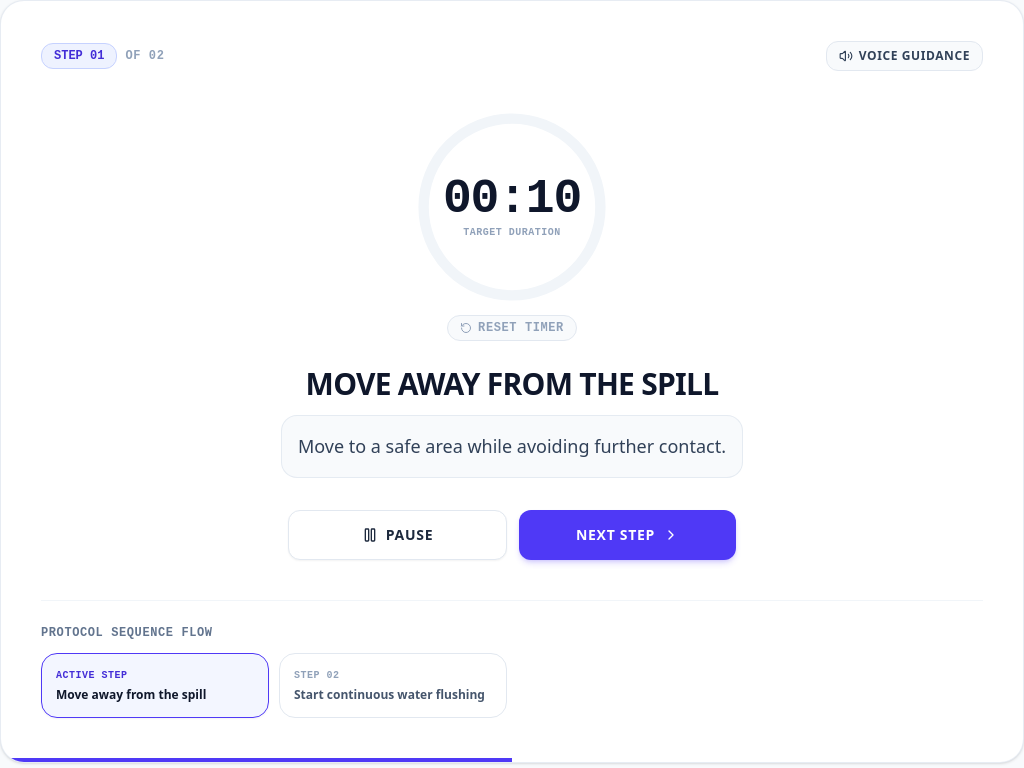
ProtocolRunner Component › toggles timer between pause and resume
Click the button "PAUSE": (398, 535) x1=288 y1=510 x2=507 y2=560
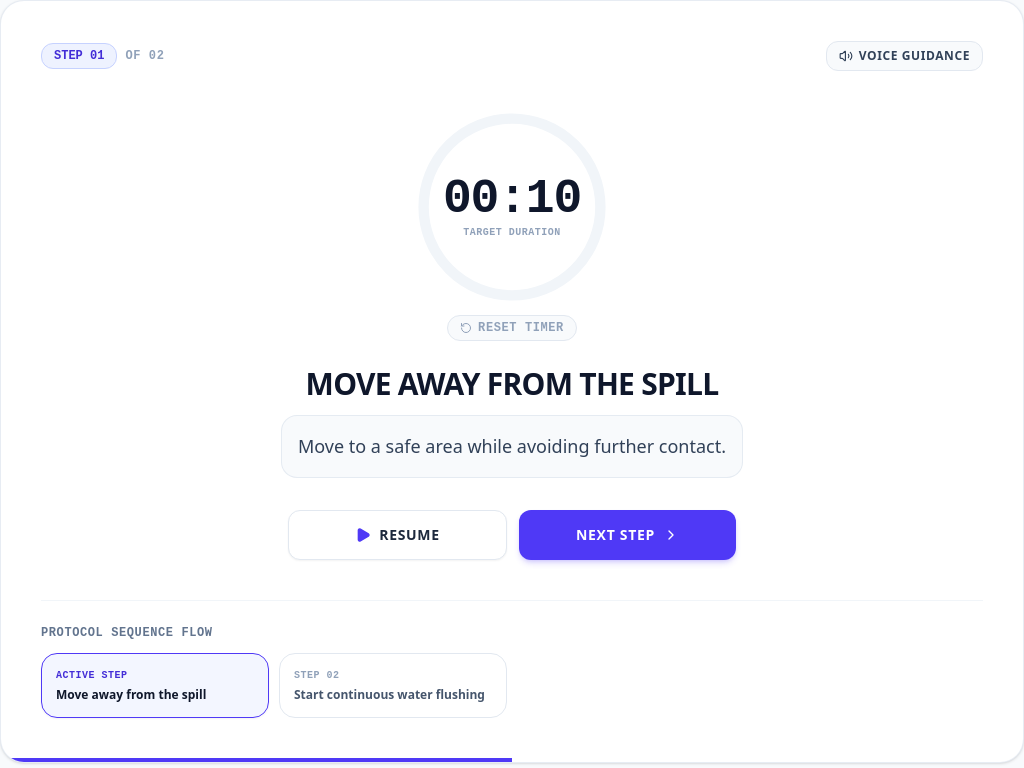
Now the button "RESUME" is shown
Click the button "RESUME": (398, 535) x1=288 y1=510 x2=507 y2=560
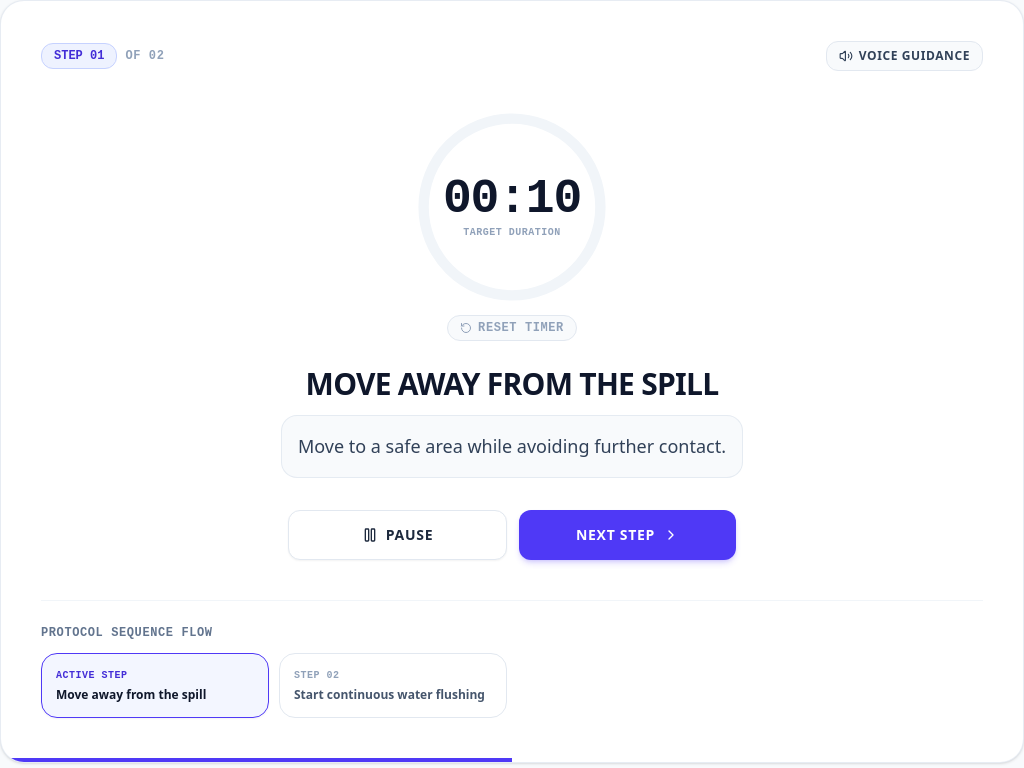
Now the button "PAUSE" is shown, box x1=288 y1=510 x2=507 y2=560
